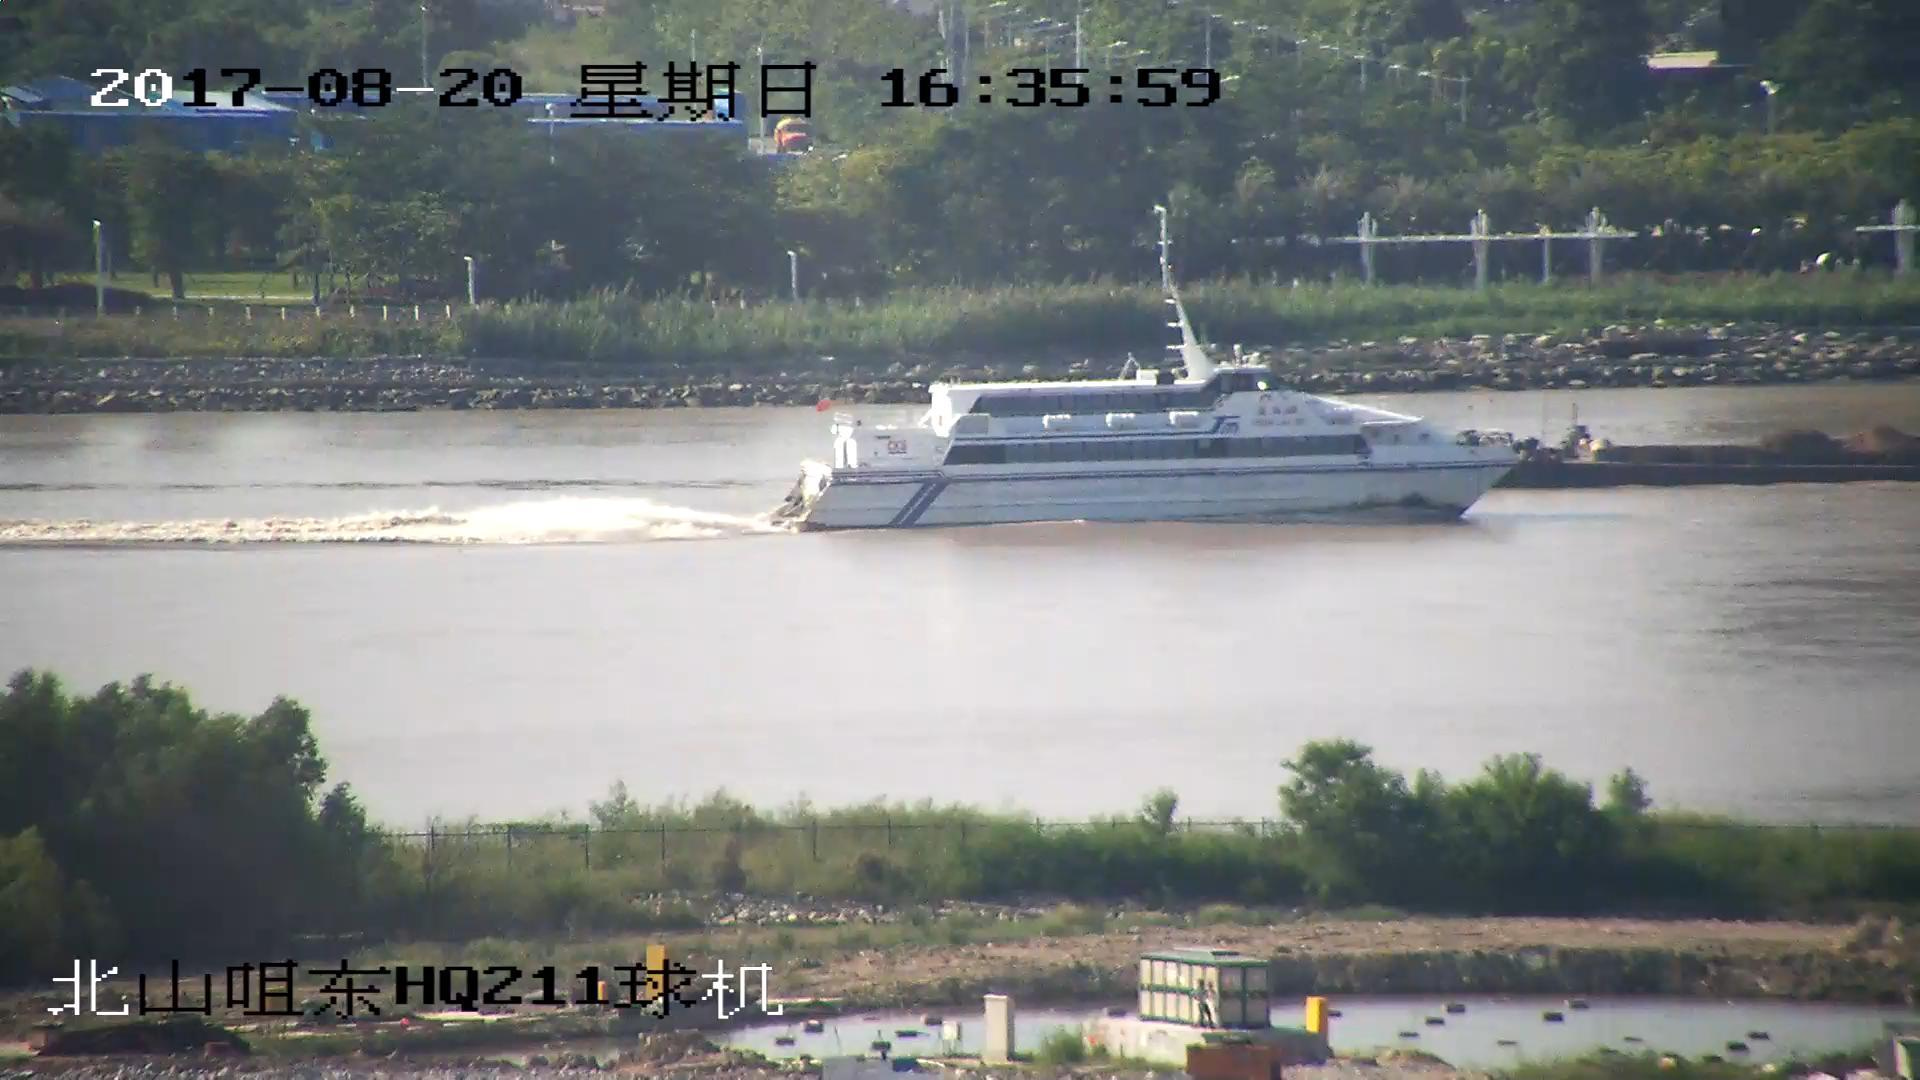Ship: (773, 276, 1522, 527), (1460, 419, 1920, 491)
